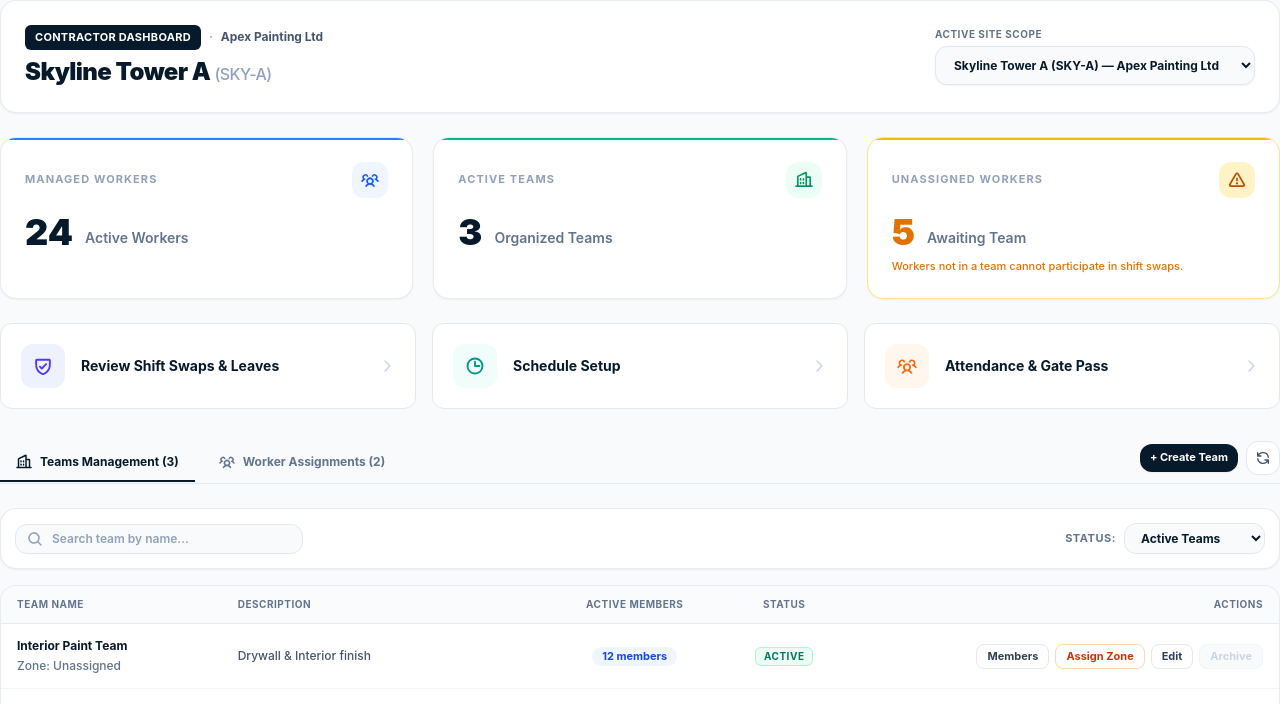
opens Assign Zone for the selected team and binds the dialog to the active Contractor scope
The image size is (1280, 704).
Click the button "Assign Zone" in the row of "Interior Paint Team". click: (1100, 656)
box: [1055,644,1145,669]
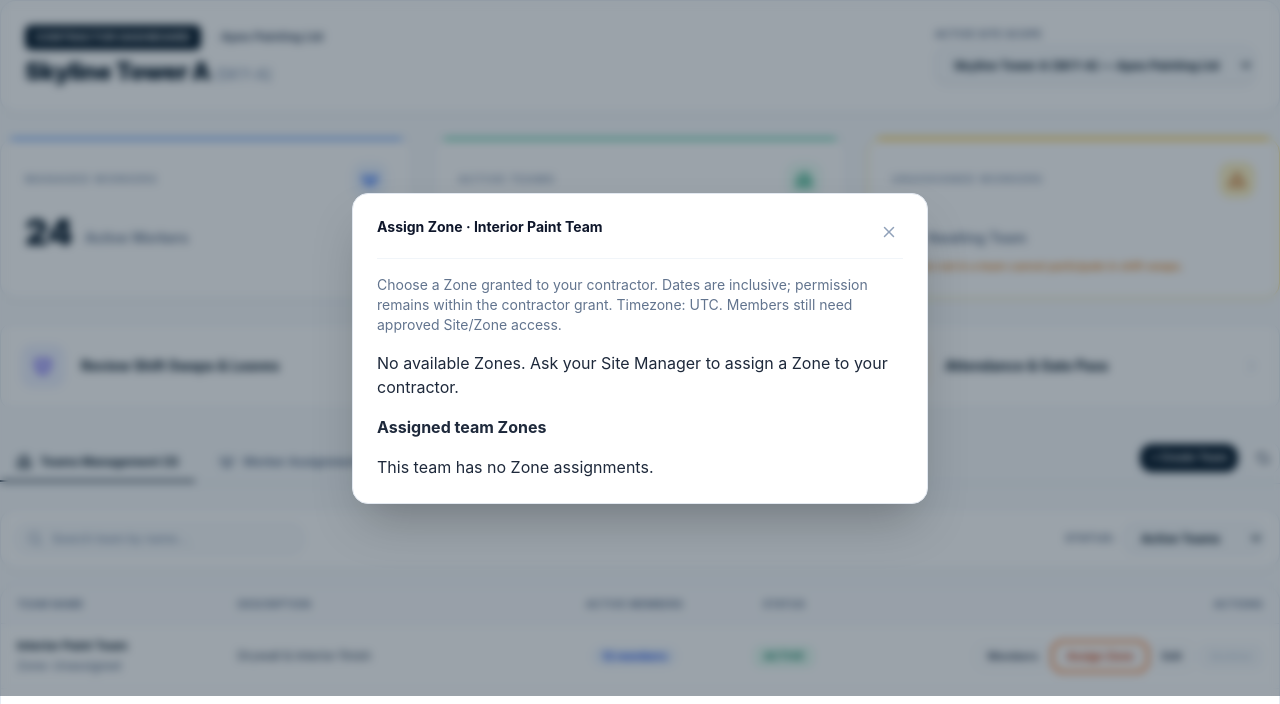
Result: the dialog is shown at [352,192,928,504]
Result: the text "Ask your Site Manager" is shown at [377,352,888,396]
